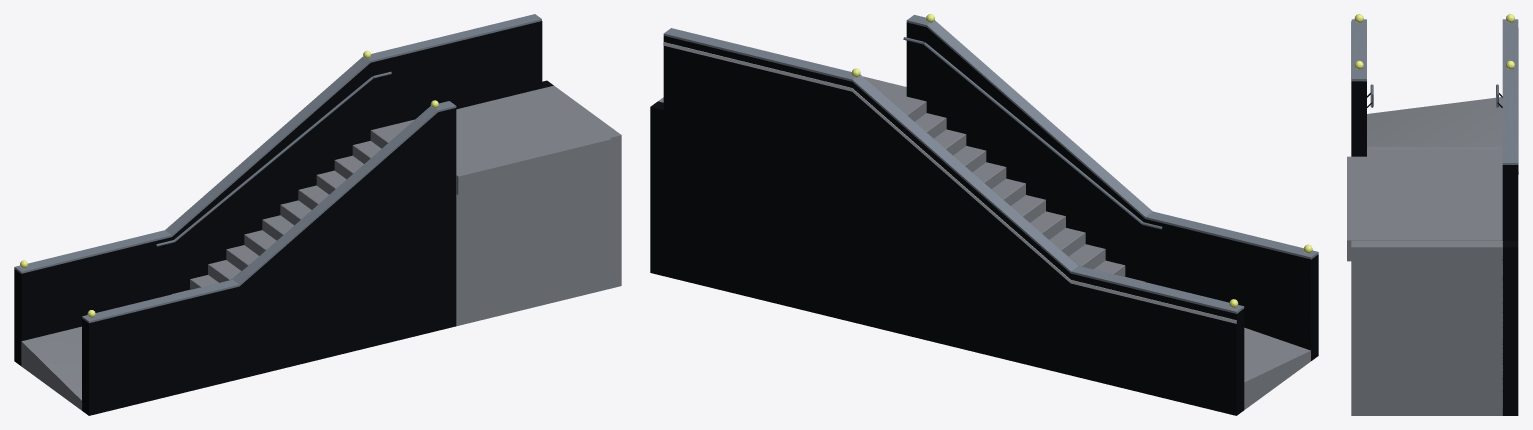
The picture shows the model from 3 angles, left to right: view 1: azimuth 30°, elevation 25°; view 2: azimuth 150°, elevation 25°; view 3: azimuth 270°, elevation 25°; orthographic projection. The views are drawn at different scales.
Parts seen in each view (by area): view 1: Cheek_Walls, Stair_Body, Cheek_Caps, Handrail; view 2: Cheek_Walls, Cheek_Caps, Stair_Body, Court_Line_Band, Handrail; view 3: Stair_Body, Cheek_Walls, Cheek_Caps, Ball_Finials.
Part boxes in pixels (x1,y1,x2,y2): Cheek_Walls: (14, 21, 553, 415); Stair_Body: (21, 85, 621, 410); Cheek_Caps: (14, 14, 541, 322); Handrail: (156, 71, 391, 279); Cheek_Walls: (650, 22, 1318, 415); Cheek_Caps: (663, 15, 1318, 313); Stair_Body: (658, 76, 1310, 409); Court_Line_Band: (663, 42, 1236, 323); Handrail: (903, 37, 1162, 265); Stair_Body: (1347, 97, 1502, 415); Cheek_Walls: (1351, 21, 1518, 415); Cheek_Caps: (1351, 19, 1518, 164); Ball_Finials: (1354, 14, 1514, 69).
Size of what is drawn, in the model's own units: 8.85 by 3.61 by 2.21.
7 materials, 5 textured.
